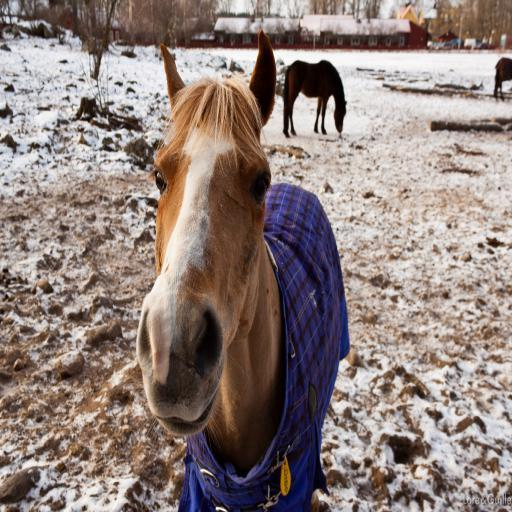horse: (114, 24, 318, 512), (280, 60, 348, 133), (494, 56, 512, 98)
